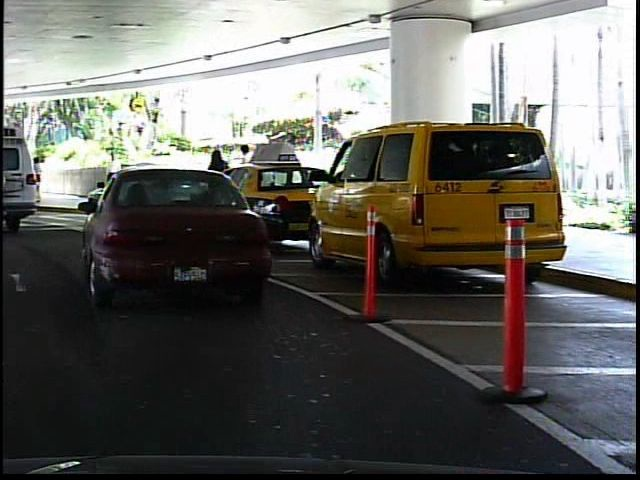person: (203, 141, 236, 209), (238, 139, 264, 209), (102, 145, 125, 204), (28, 154, 49, 199)
